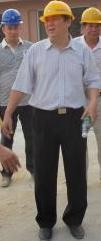boots: (38, 227, 52, 241), (0, 175, 11, 187)
hard-hat: (0, 12, 25, 46)
